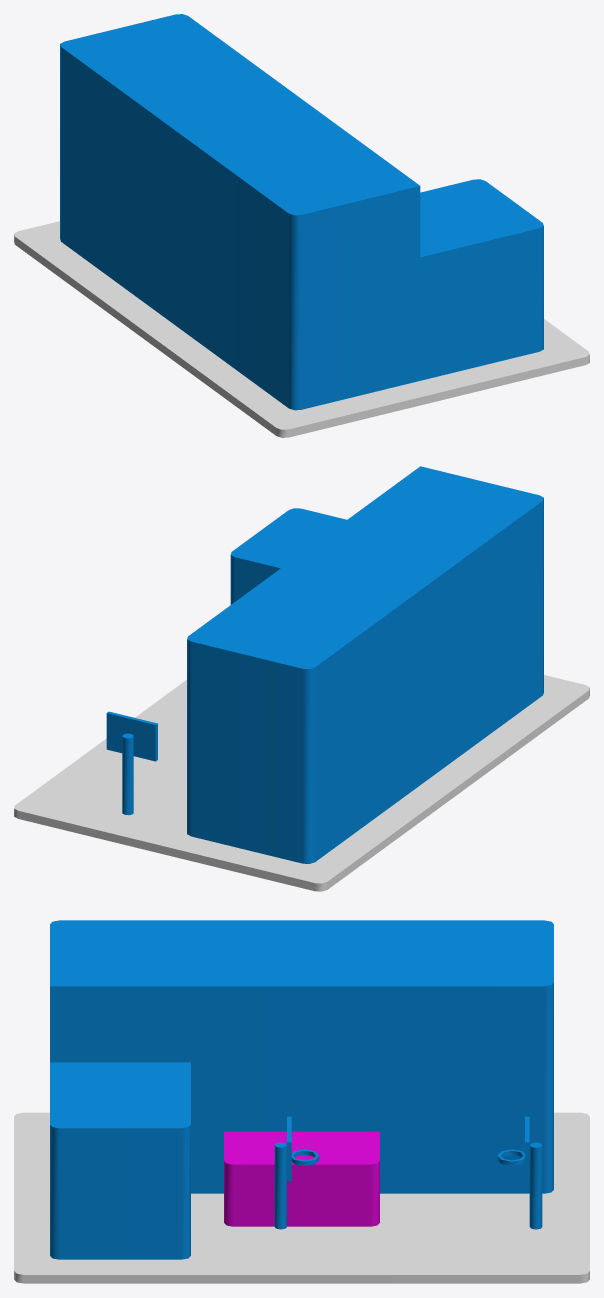
File: CombinedYEEEE.gltf
The picture shows the model from 3 angles, top to bottom: view 1: azimuth 30°, elevation 25°; view 2: azimuth 150°, elevation 25°; view 3: azimuth 270°, elevation 25°; orthographic projection. The views are drawn at different scales.
Visible parts, largest first — view 1: School_2x3; view 2: School_2x3; view 3: School_2x3, GStore_1x1.
Boxes of the visible parts, left/top/right/bottom form: School_2x3: left=14, top=14, right=589, bottom=437; School_2x3: left=14, top=466, right=589, bottom=891; School_2x3: left=14, top=920, right=589, bottom=1283; GStore_1x1: left=206, top=1131, right=397, bottom=1233.
Size of the model in its own units: 2 by 1.24 by 3.
